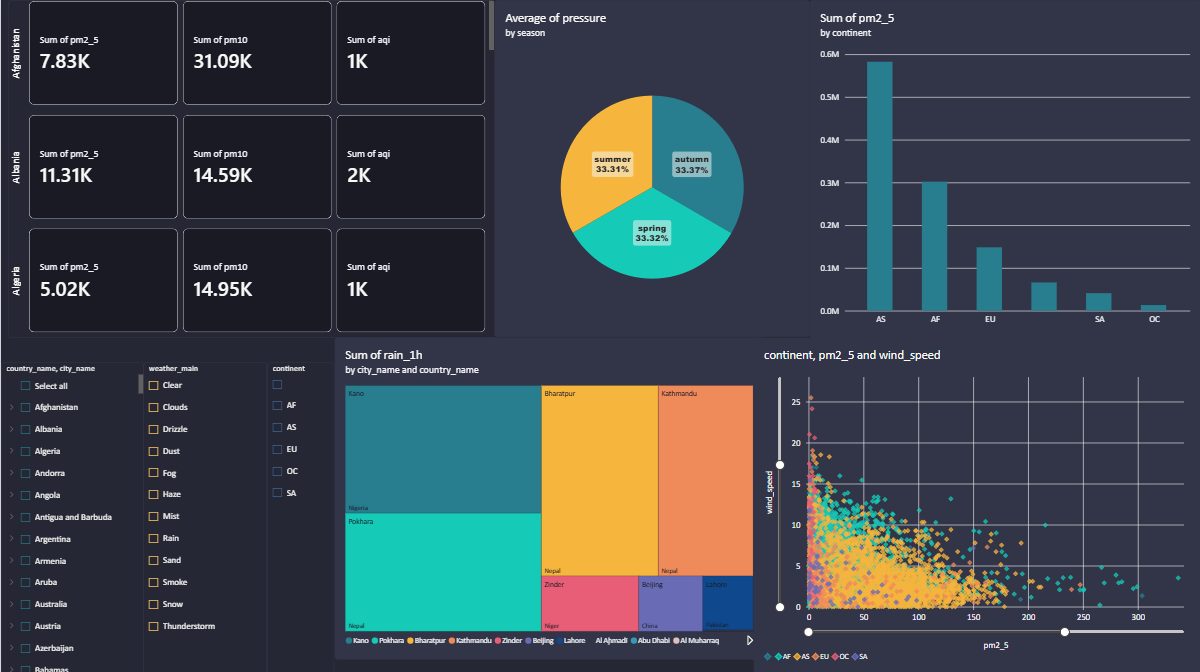

This screenshot's page, from the dashboard's own definition file:
{"tool":"powerbi","page":{"name":"Page 1","canvas":[1920,1080],"ordinal":0},"visuals":[{"type":"cardVisual","fields":{"Data":["Sum(air_pollution_weather_clean.pm2_5)","Sum(air_pollution_weather_clean.pm10)","Sum(air_pollution_weather_clean.aqi)"],"Rows":["air_pollution_weather_clean.country_name"]},"box":[11,0,778.5,541.1],"z":0},{"type":"columnChart","fields":{"Category":["air_pollution_weather_clean.continent"],"Y":["Sum(air_pollution_weather_clean.pm2_5)"]},"box":[1294.7,0,625.7,541.3],"z":2000},{"type":"scatterChart","fields":{"Series":["air_pollution_weather_clean.continent"],"X":["air_pollution_weather_clean.pm2_5"],"Y":["air_pollution_weather_clean.wind_speed"]},"box":[1204.1,539.3,716.3,541.3],"z":3000},{"type":"slicer","fields":{"Values":["air_pollution_weather_clean.continent"]},"box":[426.1,580.4,107,500.2],"z":4000},{"type":"slicer","fields":{"Values":["air_pollution_weather_clean.country_name","air_pollution_weather_clean.city_name"]},"box":[0,580.4,228.5,500.2],"z":4001},{"type":"slicer","fields":{"Values":["air_pollution_weather_clean.weather_main"]},"box":[228.5,580.4,197.6,500.2],"z":4002},{"type":"treemap","fields":{"Details":["air_pollution_weather_clean.country_name"],"Group":["air_pollution_weather_clean.city_name"],"Values":["Sum(air_pollution_weather_clean.rain_1h)"]},"box":[533.7,539.3,686.5,515.3],"z":4003},{"type":"pieChart","fields":{"Category":["air_pollution_weather_clean.season"],"Y":["Avg(air_pollution_weather_clean.pressure)"]},"box":[790.4,0,504.3,539.3],"z":4004}]}

Visuals, with their boxes in screenshot pixels (x1, y1, x2, y2), scaled from the page's 1920x1080 canvas onto the 1200x672 screenshot:
cardVisual - Sum(air_pollution_weather_clean.pm2_5) x Sum(air_pollution_weather_clean.pm10): bbox=(7, 0, 493, 337)
columnChart - air_pollution_weather_clean.continent x Sum(air_pollution_weather_clean.pm2_5): bbox=(809, 0, 1199, 337)
scatterChart - air_pollution_weather_clean.continent x air_pollution_weather_clean.pm2_5: bbox=(753, 336, 1199, 671)
slicer - air_pollution_weather_clean.continent: bbox=(266, 361, 333, 671)
slicer - air_pollution_weather_clean.country_name x air_pollution_weather_clean.city_name: bbox=(0, 361, 143, 671)
slicer - air_pollution_weather_clean.weather_main: bbox=(143, 361, 266, 671)
treemap - air_pollution_weather_clean.country_name x air_pollution_weather_clean.city_name: bbox=(334, 336, 763, 656)
pieChart - air_pollution_weather_clean.season x Avg(air_pollution_weather_clean.pressure): bbox=(494, 0, 809, 336)
